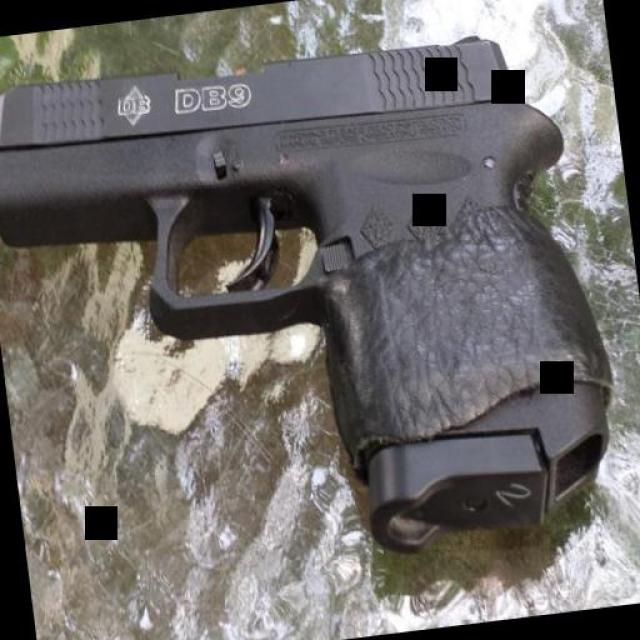gun: (0, 21, 616, 589)
